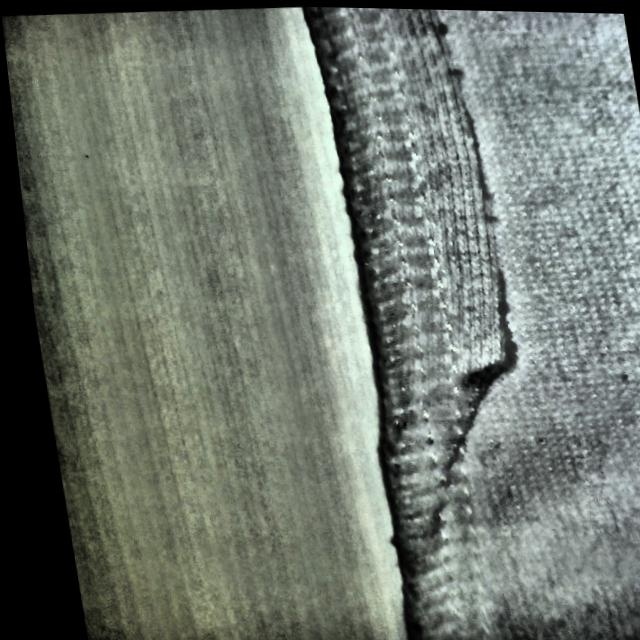seam: (300, 3, 573, 445)
